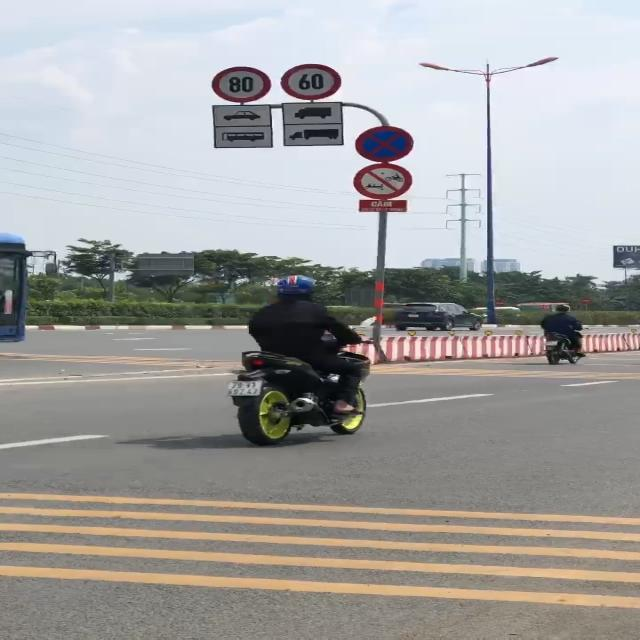Bien bao cam dung xe va do xe: (350, 124, 422, 164)
Bien bao toc do toi da cho phep: (209, 63, 272, 104), (278, 61, 344, 100)
